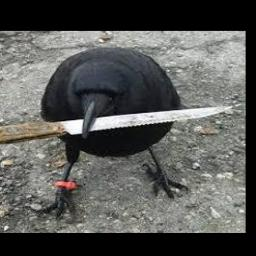Crow: (35, 47, 191, 218)
